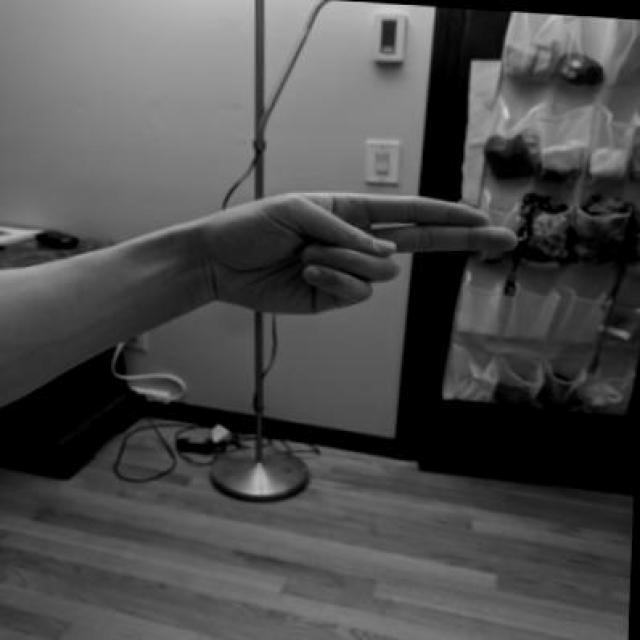H: (186, 178, 526, 337)
